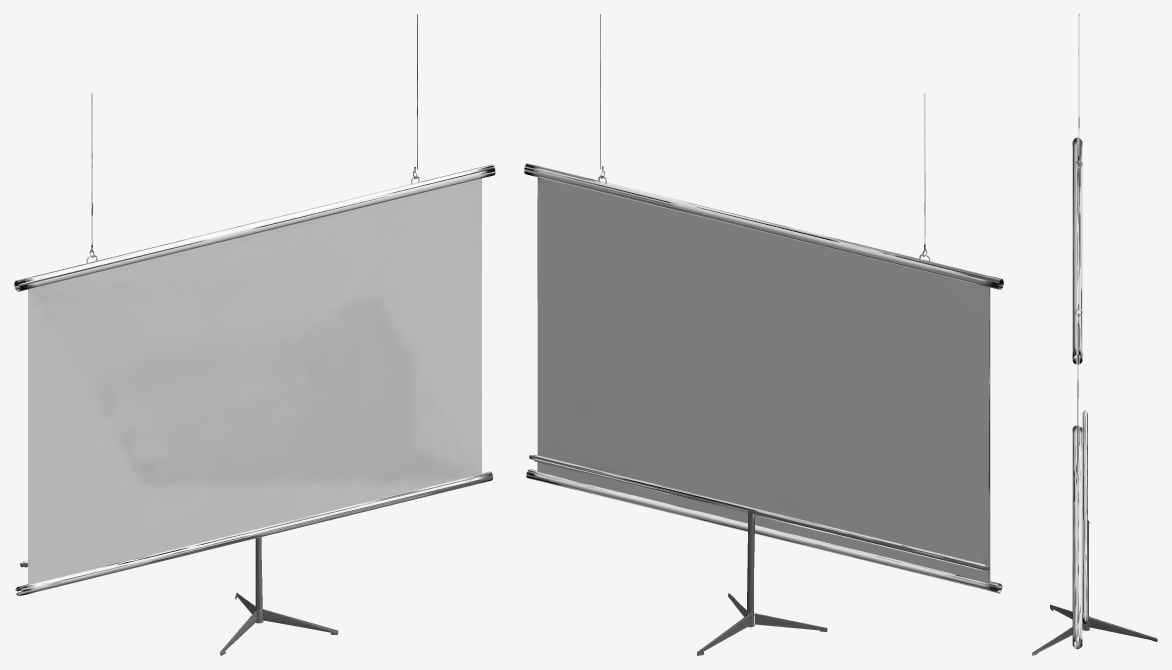
Rendered from screen-holder.glb.
3 views of the same model, side by side, from view 1: azimuth 30°, elevation 25°; view 2: azimuth 150°, elevation 25°; view 3: azimuth 270°, elevation 25° (orthographic). The views are drawn at different scales.
Bounding box in the file's own units: 0.8179 × 0.9512 × 0.1987.
Materials: 1 (1 with a texture image).
